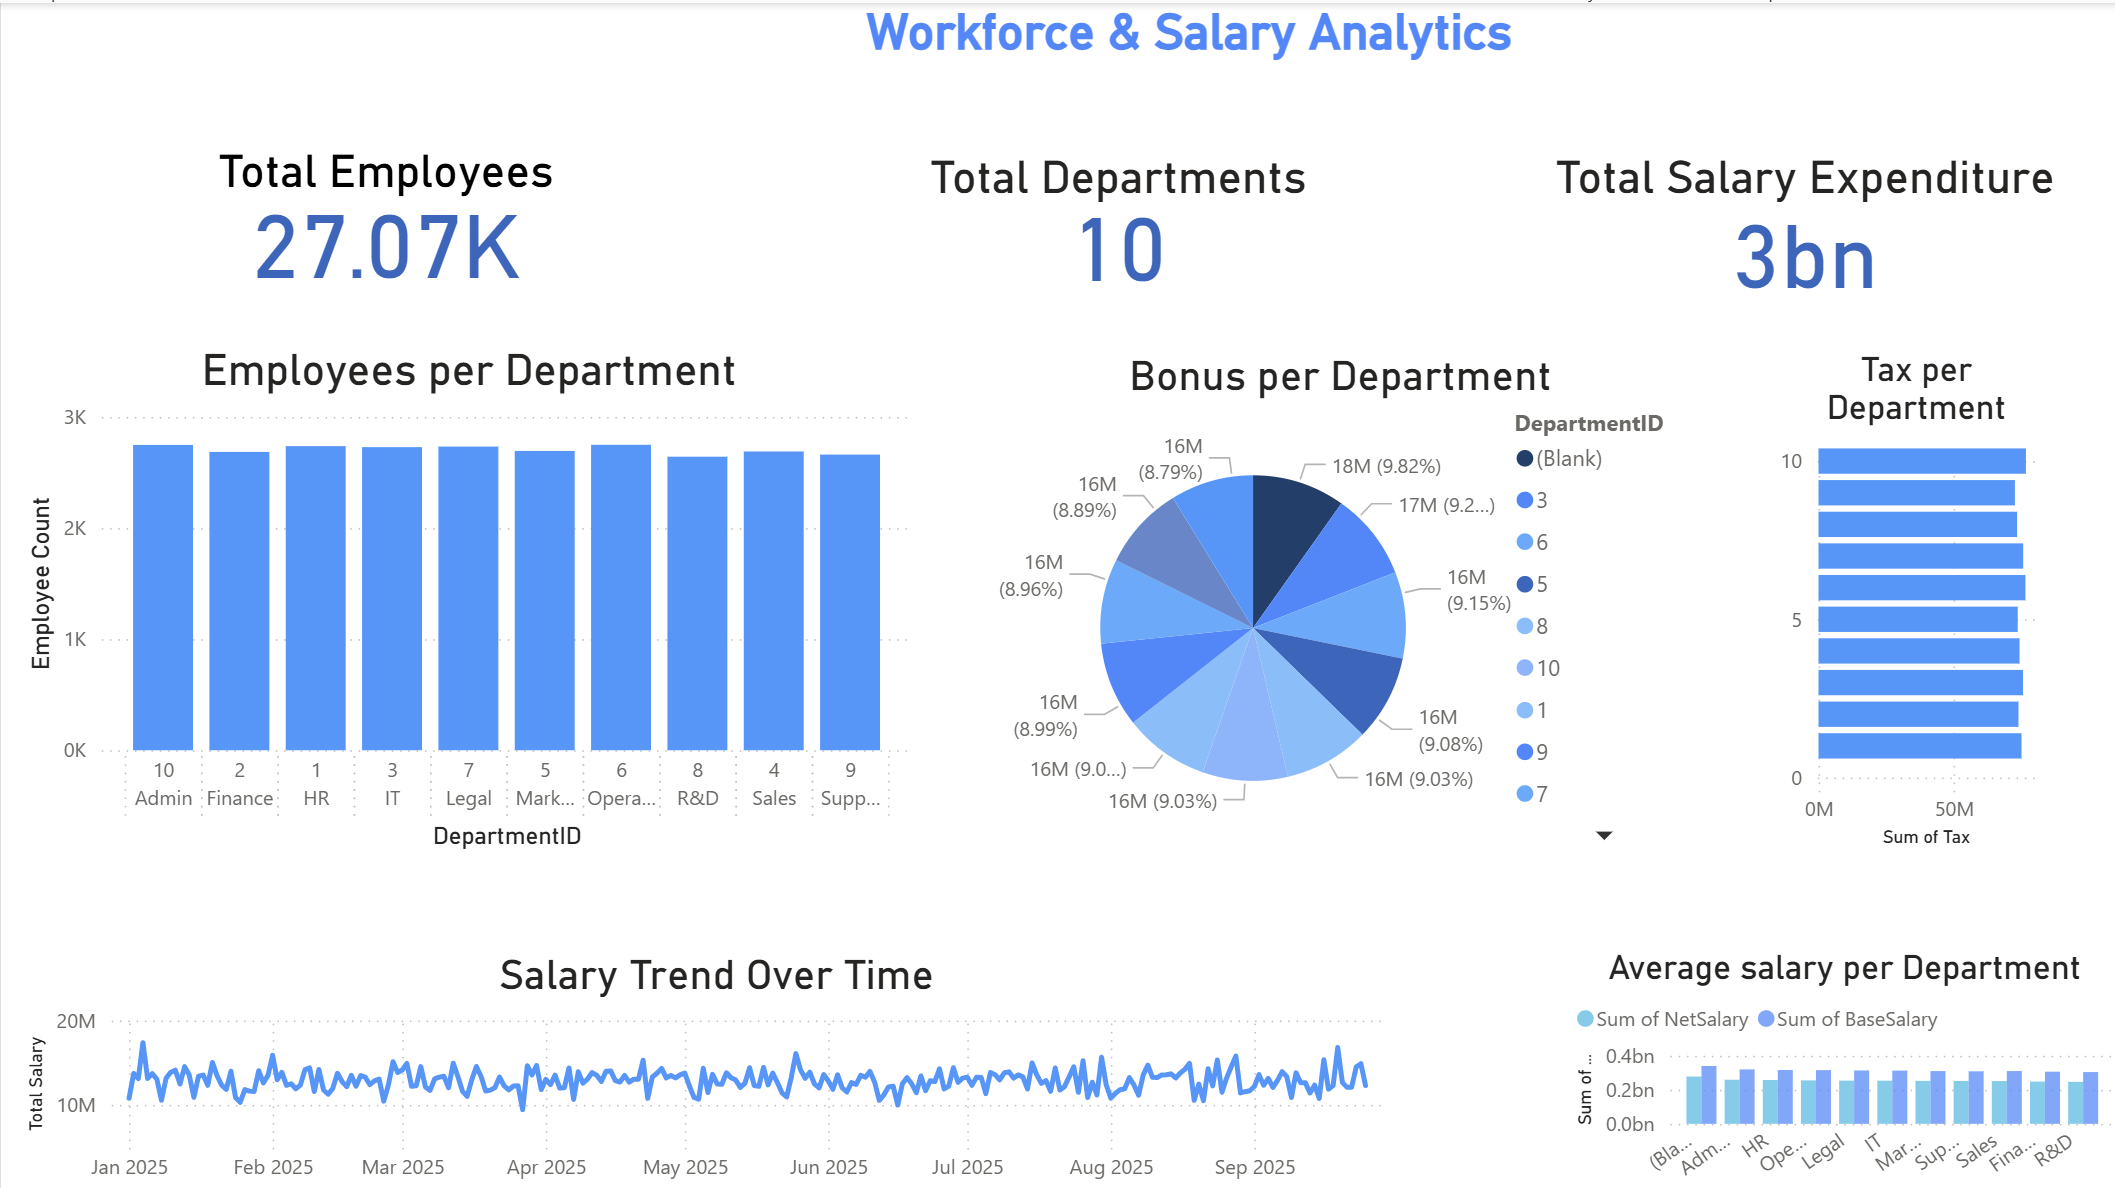

The page's visual inventory and layout, read from the dashboard file:
{"tool":"powerbi","page":{"name":"Page 1","canvas":[1280,720],"ordinal":0},"visuals":[{"type":"card","title":"Total Employees","fields":{"Values":["CountNonNull(Employees.EmployeeID)"]},"box":[18,85.5,428.8,98.2],"z":0},{"type":"card","title":"Total Departments","fields":{"Values":["CountNonNull(Departments.DepartmentID)"]},"box":[467.9,88.7,412.9,95],"z":1000},{"type":"card","title":"Total Salary Expenditure","fields":{"Values":["Sum(Payroll.NetSalary)"]},"box":[897.7,88.7,382.3,103.5],"z":2000},{"type":"clusteredColumnChart","title":"Employees per Department","fields":{"Y":["Departments.Employee Count"],"Category":["Departments.DepartmentName","Employees.DepartmentID"]},"box":[10.6,205.9,543.9,309.4],"z":3000},{"type":"lineChart","title":"Salary Trend Over Time","fields":{"Category":["Payroll.PayDate"],"Y":["Departments.Total Salary"]},"box":[10.6,571.4,842.8,148.9],"z":4000},{"type":"pieChart","title":"Bonus per Department","fields":{"Category":["Employees.DepartmentID"],"Y":["Sum(Payroll.Bonus)"]},"box":[592.5,210.2,431.9,305.2],"z":5000},{"type":"clusteredBarChart","title":"Tax per Department","fields":{"Category":["Employees.DepartmentID"],"Y":["Sum(Payroll.Tax)"]},"box":[1067.7,209.1,176.4,305.2],"z":6000},{"type":"clusteredColumnChart","title":"Average salary per Department","fields":{"Category":["Departments.DepartmentName"],"Y":["Sum(Payroll.NetSalary)","Sum(Payroll.BaseSalary)"]},"box":[945.2,570.3,334.8,150],"z":7000},{"type":"textbox","title":"Workforce & Salary Analytics Overview","box":[509,0,416.1,34.9],"z":8000}]}

Visuals, with their boxes in screenshot pixels (x1, y1, x2, y2), scaled from the page's 1280x720 canvas onto the 2115x1188 screenshot:
"Total Employees" card: <region>30, 141, 738, 303</region>
"Total Departments" card: <region>773, 146, 1455, 303</region>
"Total Salary Expenditure" card: <region>1483, 146, 2114, 317</region>
"Employees per Department" clusteredColumnChart: <region>18, 340, 916, 850</region>
"Salary Trend Over Time" lineChart: <region>18, 943, 1410, 1187</region>
"Bonus per Department" pieChart: <region>979, 347, 1693, 850</region>
"Tax per Department" clusteredBarChart: <region>1764, 345, 2056, 849</region>
"Average salary per Department" clusteredColumnChart: <region>1562, 941, 2114, 1187</region>
"Workforce & Salary Analytics Overview" textbox: <region>841, 0, 1529, 58</region>
